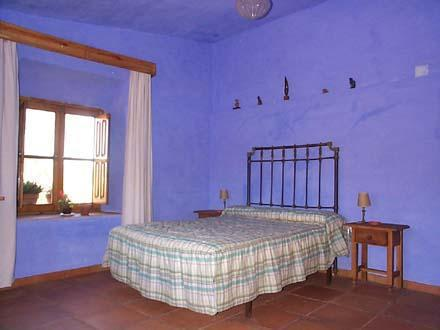Cama: (101, 134, 346, 308)
Ventana: (22, 99, 102, 218)
